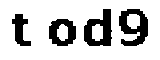9: (118, 6, 150, 48)
d: (81, 5, 115, 51)
o: (44, 19, 78, 48)
t: (10, 9, 34, 50)
